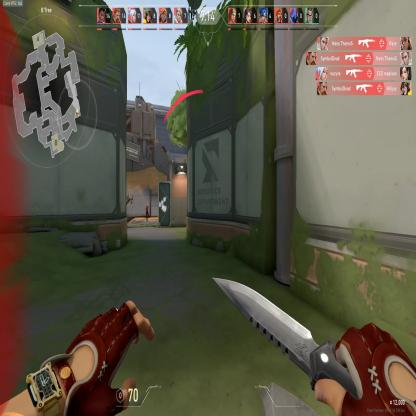enemy: (145, 203, 149, 221)
